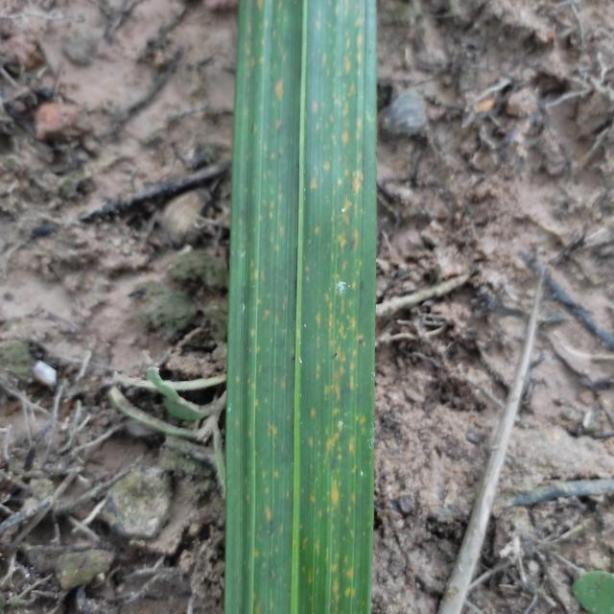nitrogen: (232, 0, 372, 614)
